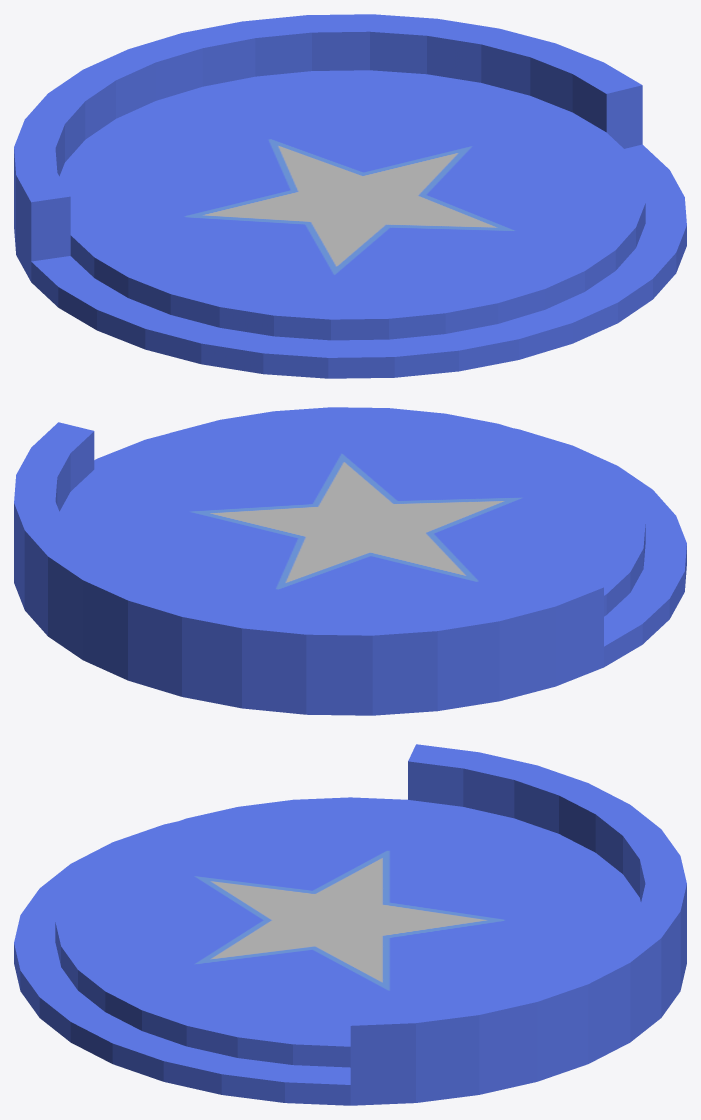
Rendered from PlayerStage.fbx.
3 renders of one model, top to bottom at view 1: azimuth 30°, elevation 25°; view 2: azimuth 150°, elevation 25°; view 3: azimuth 270°, elevation 25°, orthographic.
Parts seen in each view (by area): view 1: PlayerStage; view 2: PlayerStage; view 3: PlayerStage.
Boxes of the visible parts, x1,y1,x2,y2 form: PlayerStage: (14, 14, 686, 378); PlayerStage: (14, 407, 686, 715); PlayerStage: (14, 744, 686, 1105).
Size of the model in its own units: 488 by 63.97 by 488.
